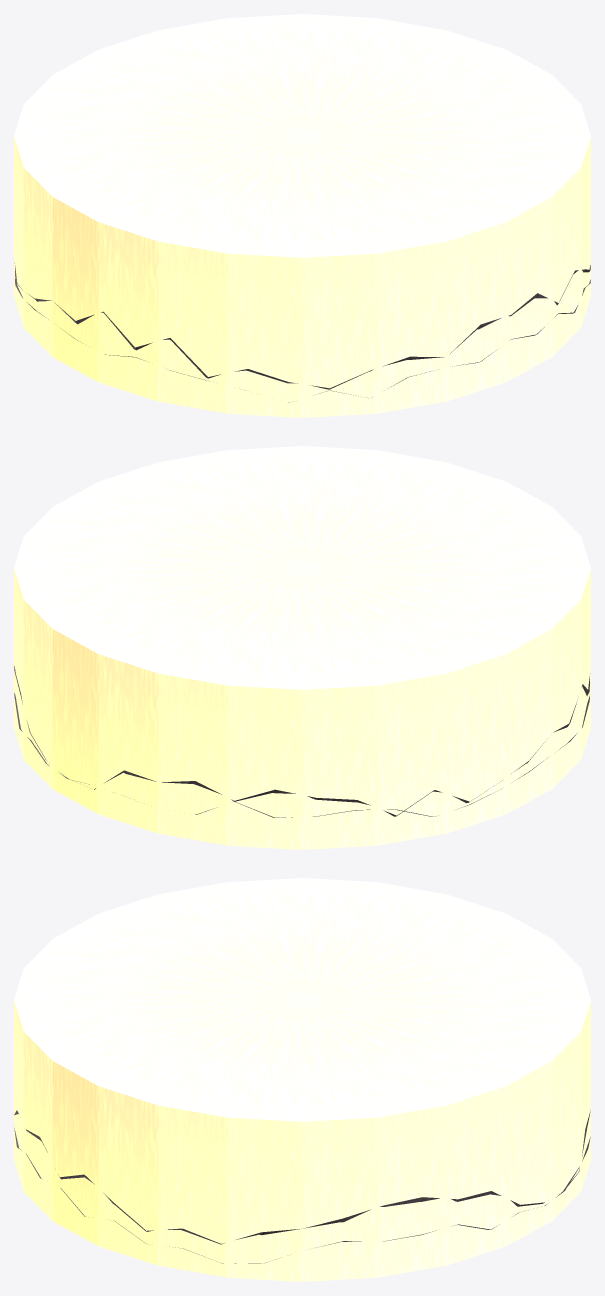
Rendered from level.gltf.
3 renders of one model, top to bottom at view 1: azimuth 30°, elevation 25°; view 2: azimuth 150°, elevation 25°; view 3: azimuth 270°, elevation 25°, orthographic.
Parts seen in each view (by area): view 1: PROP_SECTOR_0; view 2: PROP_SECTOR_0; view 3: PROP_SECTOR_0.
Boxes of the visible parts, x1,y1,x2,y2 form: PROP_SECTOR_0: (14,14,590,417); PROP_SECTOR_0: (14,446,590,849); PROP_SECTOR_0: (14,878,590,1281).
Size of the model in its own units: 485 by 155 by 485.
Materials: 2 (2 with a texture image).
